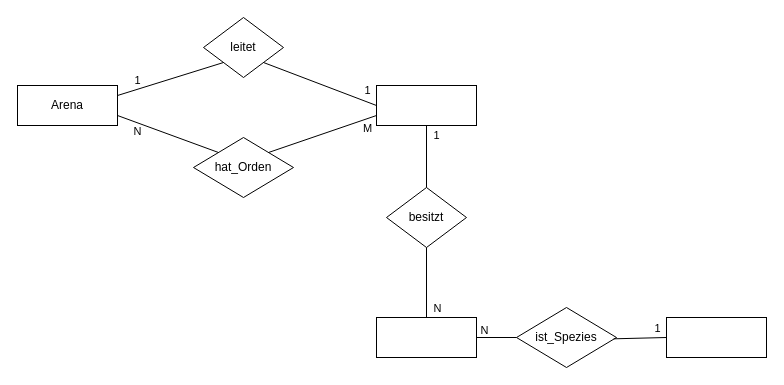
The diagram is 784 pixels wide and 385 high, and some of its shapes have lost their labels. The shapes that lost their labels are listed below. From the top down, each one's box as (x1, y1, x2, y2) in pixels, then its label:
(376, 84, 476, 126): Trainer
(376, 316, 476, 358): Pokémon
(666, 316, 766, 358): Spezies
